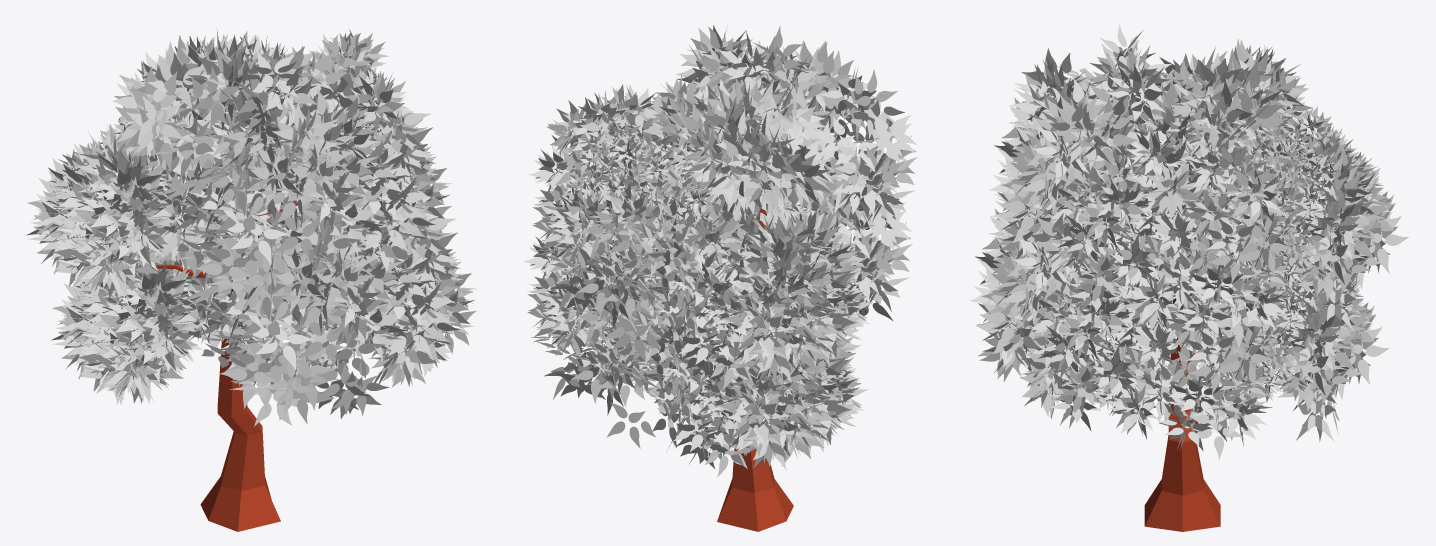
File: Environmental Tree LOD0.fbx
3 renders of one model, left to right at view 1: azimuth 30°, elevation 25°; view 2: azimuth 150°, elevation 25°; view 3: azimuth 270°, elevation 25°, orthographic. The views are drawn at different scales.
Parts seen in each view (by area): view 1: Leaves 1, Trunk 1; view 2: Leaves 1, Trunk 1; view 3: Leaves 1, Trunk 1.
Boxes of the visible parts, bbox=[...] form: Leaves 1: bbox=[26, 28, 476, 426]; Trunk 1: bbox=[155, 202, 298, 531]; Leaves 1: bbox=[523, 25, 917, 476]; Trunk 1: bbox=[648, 195, 793, 531]; Leaves 1: bbox=[969, 25, 1408, 459]; Trunk 1: bbox=[1144, 233, 1220, 531].
Size of the model in its own units: 13.5 by 16.4 by 13.84.
